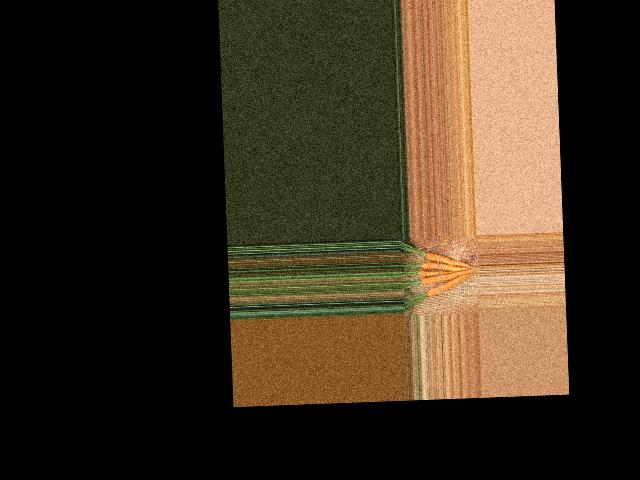carrot: (425, 250, 468, 268)
